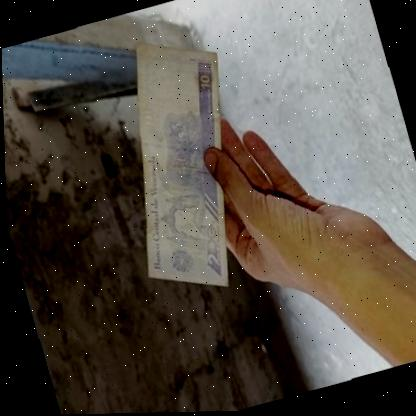ten-back-vef: (85, 22, 276, 309)
